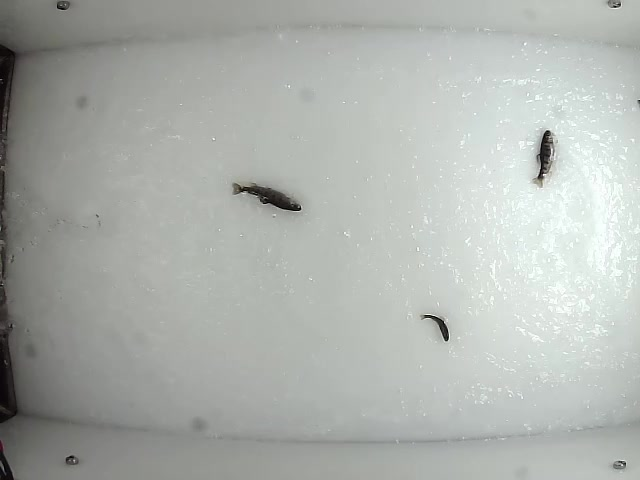fish: (229, 181, 304, 214), (529, 129, 557, 190), (419, 314, 450, 342)
